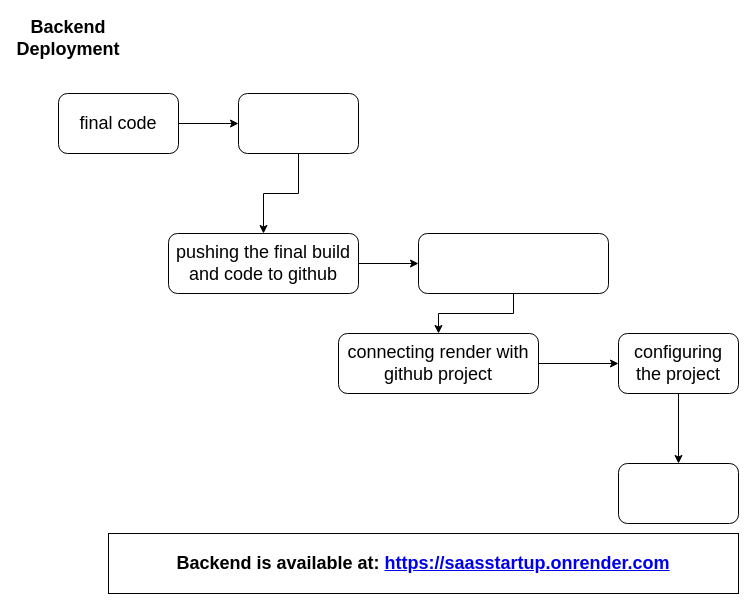
Image size: 756x611. Some labels were removed from this diagram. Here are the shapes that lost their labels. From the top down, the box of each, then its label:
(238, 92, 358, 154): created build
(418, 232, 608, 294): setting up environment on render
(618, 462, 738, 524): project deployed on render
